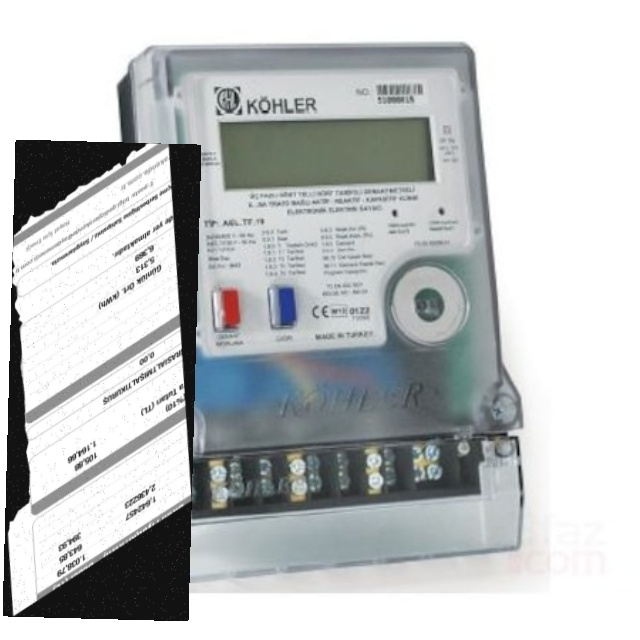electricity-bill: (3, 139, 201, 621)
